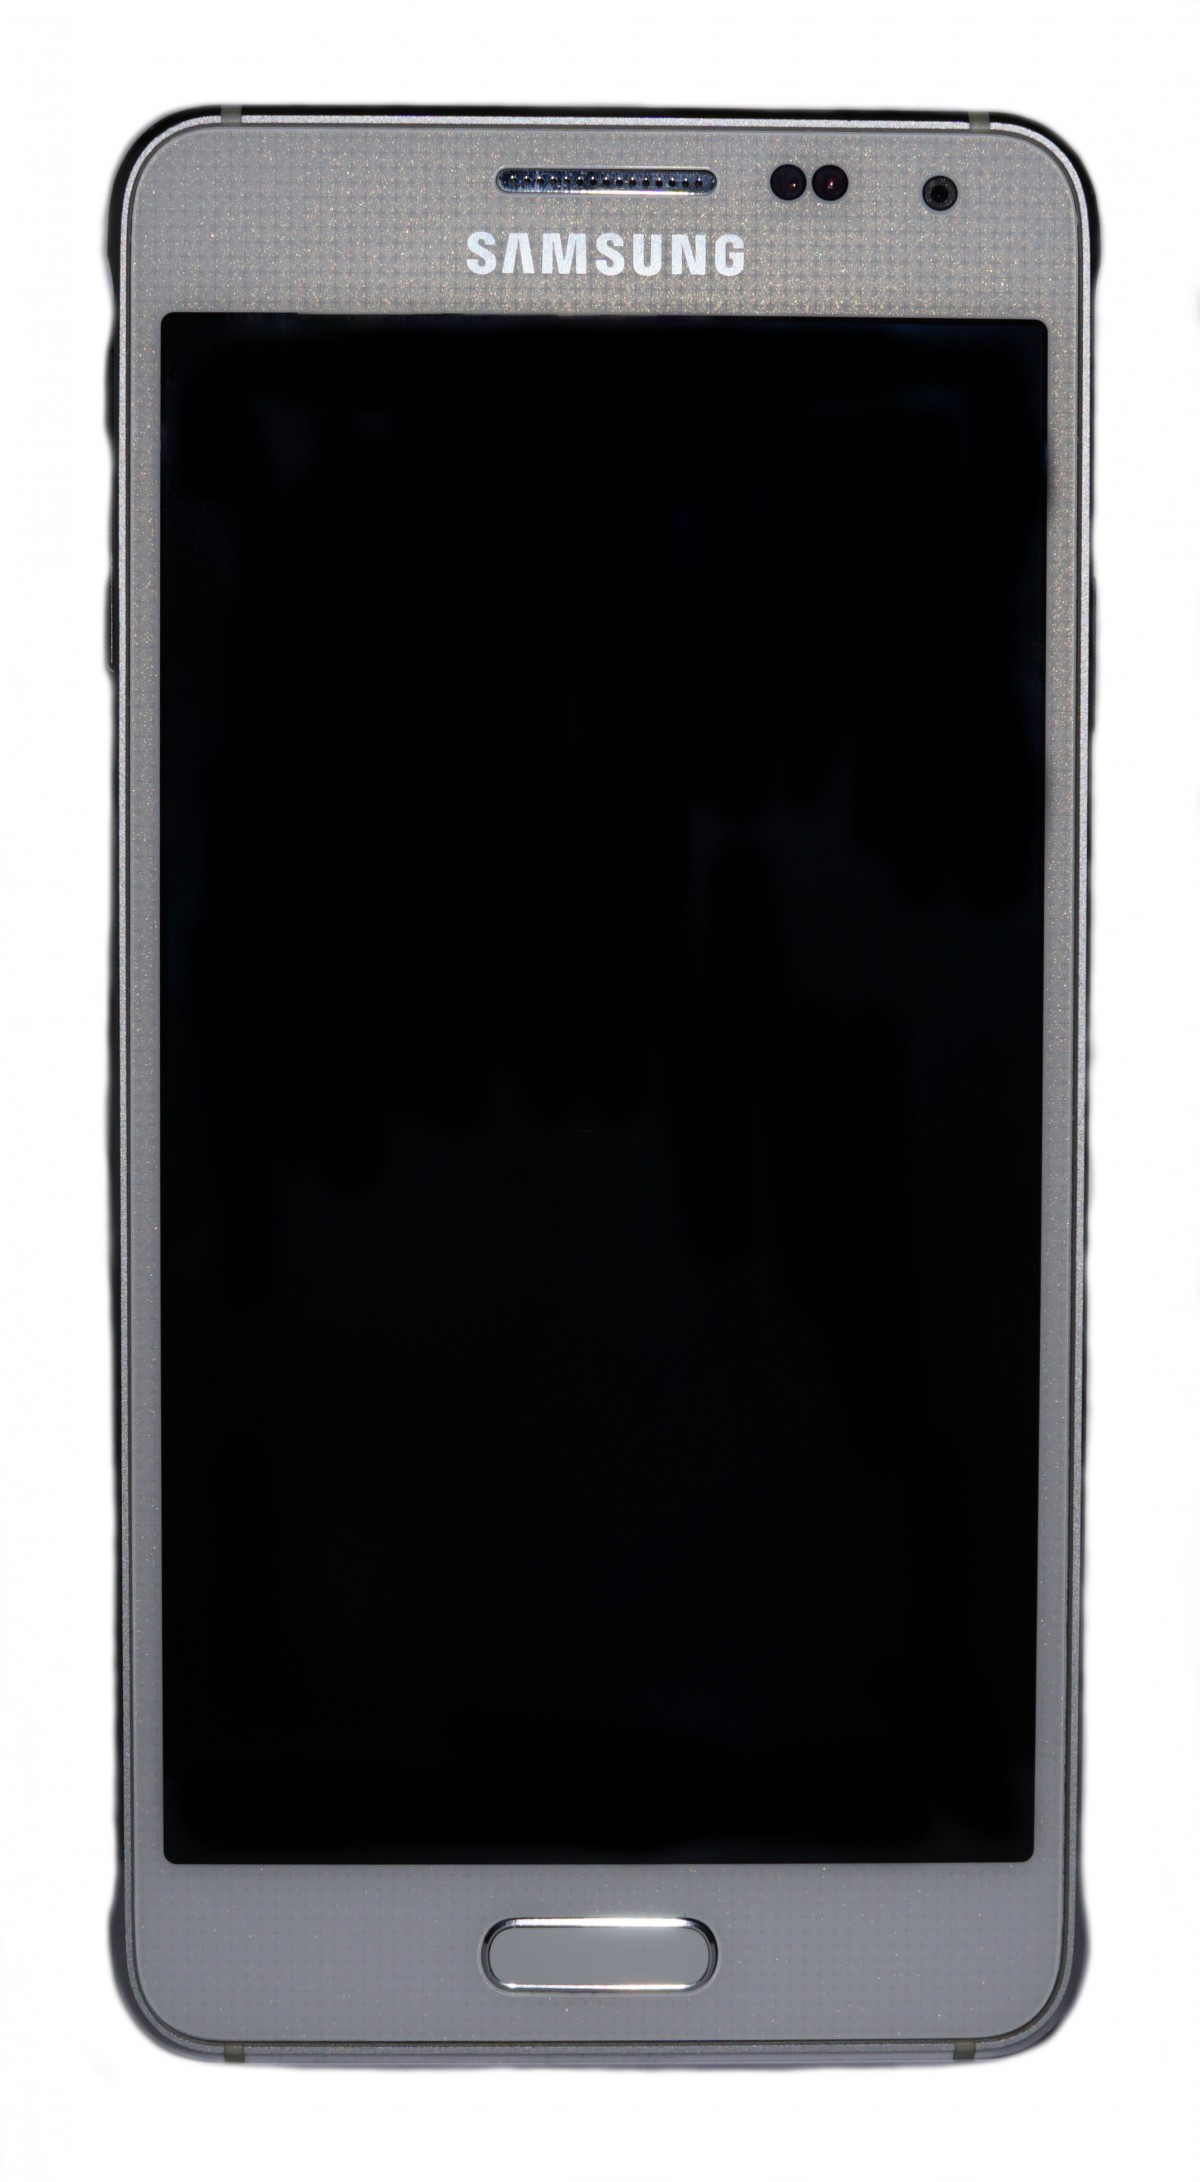Phone: (96, 95, 1110, 2086)
